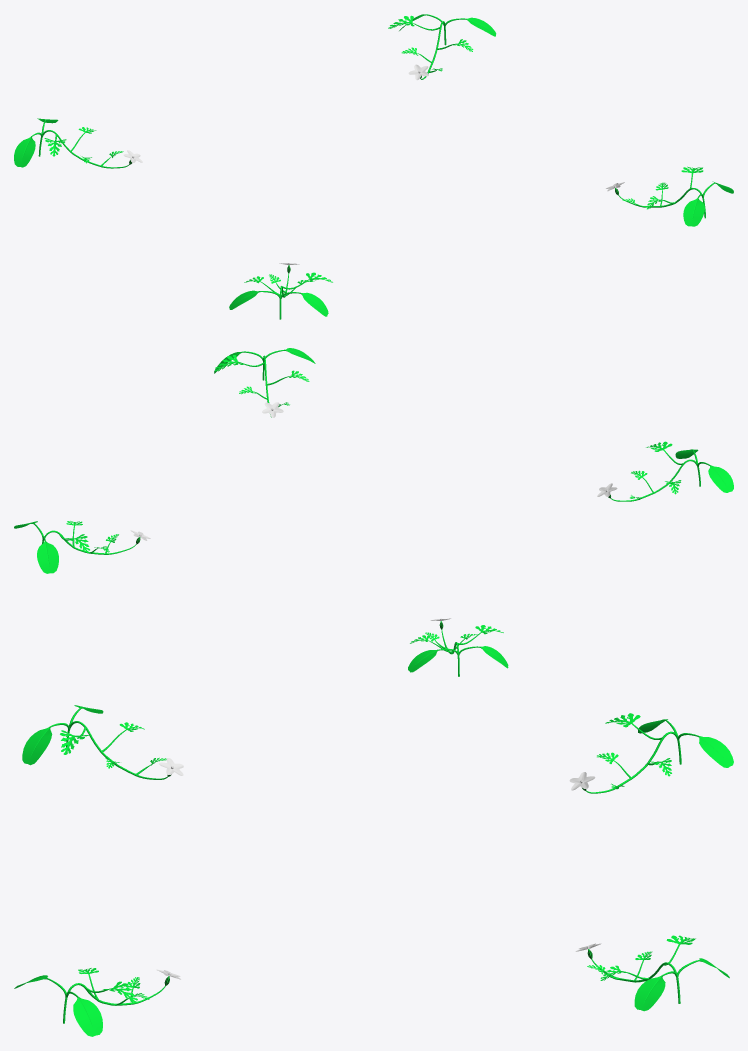
Rendered from Watermelon_lvl2.fbx.
The picture shows the model from 3 angles, top to bottom: view 1: azimuth 30°, elevation 25°; view 2: azimuth 150°, elevation 25°; view 3: azimuth 270°, elevation 25°; orthographic projection. The views are drawn at different scales.
Parts seen in each view (by area): view 1: Watermelon_lvl2_LOD0; view 2: Watermelon_lvl2_LOD0; view 3: Watermelon_lvl2_LOD0.
Part boxes in pixels (x1,y1,x2,y2): Watermelon_lvl2_LOD0: [14, 14, 733, 319]; Watermelon_lvl2_LOD0: [14, 348, 733, 676]; Watermelon_lvl2_LOD0: [14, 705, 733, 1036].
Size of what is drawn, in the model's own units: 94.42 by 98.38 by 8.85.
